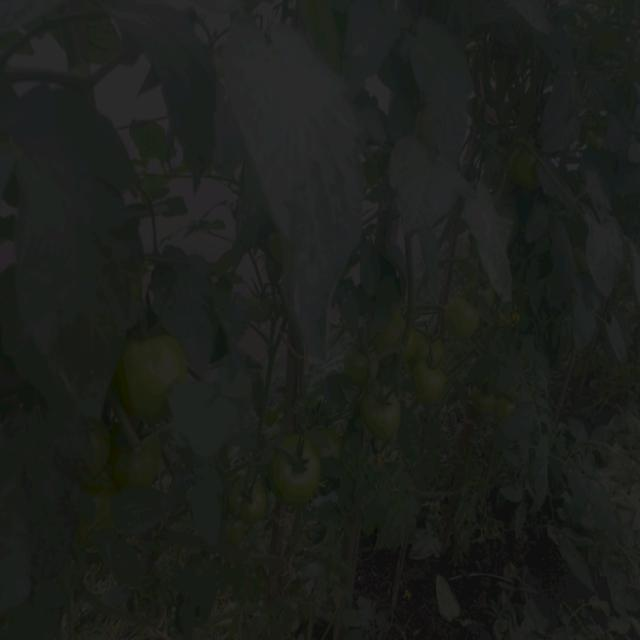tomato: (116, 323, 184, 412), (268, 431, 318, 506), (112, 437, 168, 484), (82, 428, 116, 498), (366, 391, 409, 444), (233, 478, 273, 525), (513, 145, 540, 194), (445, 296, 470, 341), (342, 349, 372, 385), (416, 357, 443, 396), (580, 124, 608, 156), (247, 285, 272, 319), (500, 395, 524, 426), (473, 387, 498, 410)
